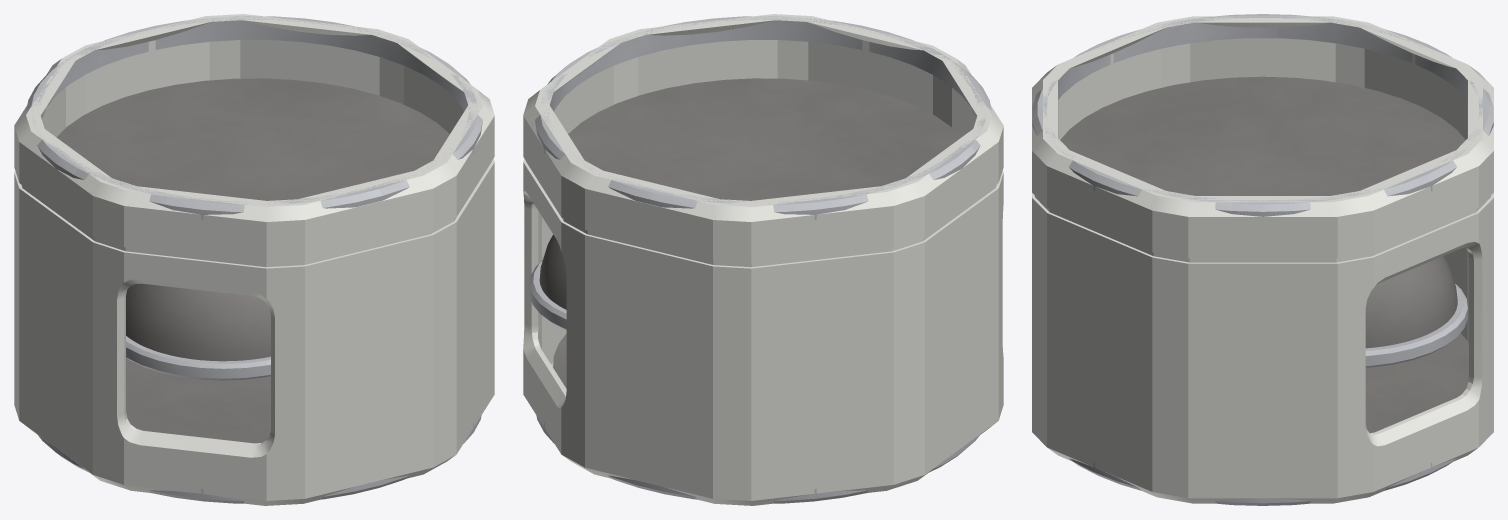
The model's file is ax_tank_06_hypergol_section_s.glb.
3 views of the same model, side by side, from view 1: azimuth 30°, elevation 25°; view 2: azimuth 150°, elevation 25°; view 3: azimuth 270°, elevation 25° (orthographic).
Visible parts, largest first — view 1: shell, decks, interface_rings, hypergol_spheres, tank_girth_rings; view 2: shell, decks, interface_rings, hypergol_spheres, tank_girth_rings; view 3: shell, decks, interface_rings, hypergol_spheres, tank_girth_rings.
Boxes of the visible parts, x1=… form: shell: x1=14, y1=14, x2=494, y2=505; decks: x1=56, y1=78, x2=449, y2=443; interface_rings: x1=26, y1=16, x2=482, y2=503; hypergol_spheres: x1=126, y1=283, x2=270, y2=361; tank_girth_rings: x1=126, y1=336, x2=270, y2=380; shell: x1=523, y1=14, x2=1003, y2=505; decks: x1=553, y1=78, x2=961, y2=388; interface_rings: x1=535, y1=16, x2=991, y2=503; hypergol_spheres: x1=539, y1=234, x2=566, y2=309; tank_girth_rings: x1=529, y1=260, x2=566, y2=330; shell: x1=1032, y1=16, x2=1493, y2=503; decks: x1=1060, y1=76, x2=1468, y2=432; interface_rings: x1=1032, y1=14, x2=1493, y2=505; hypergol_spheres: x1=1365, y1=256, x2=1457, y2=348; tank_girth_rings: x1=1365, y1=284, x2=1467, y2=367.
Size of the model in its own units: 1.25 by 0.9 by 1.25.
3 materials, 2 textured.
